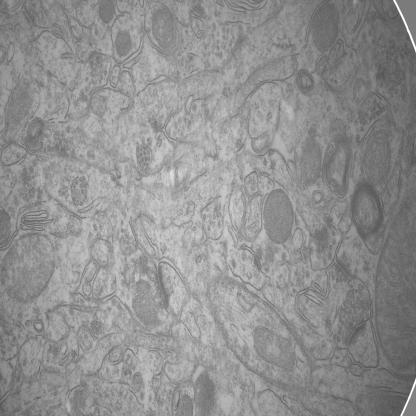mitochondria: (0, 233, 54, 303), (253, 326, 294, 369), (361, 130, 391, 186), (308, 4, 342, 52), (263, 189, 292, 244), (132, 280, 160, 326), (115, 31, 132, 56), (98, 0, 113, 23)
